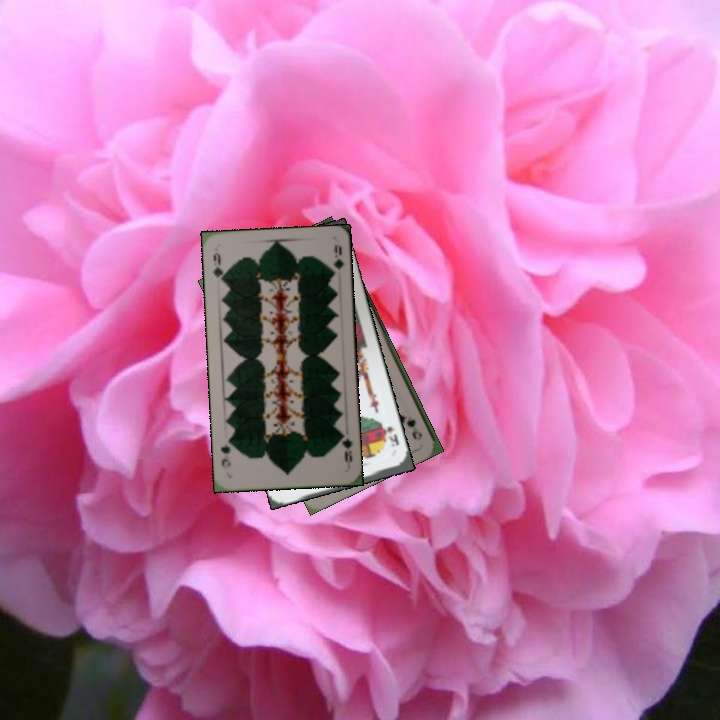G9: (399, 410, 425, 441), (336, 429, 356, 469), (208, 248, 227, 285)
SK: (377, 419, 402, 449)
